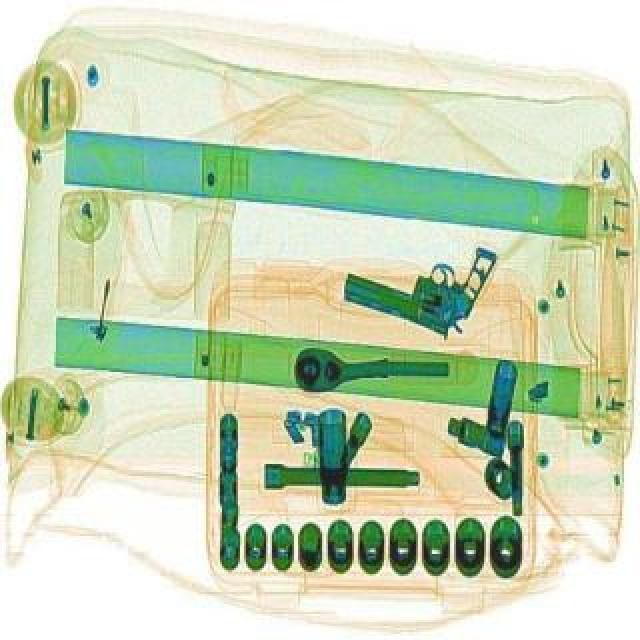gun: (334, 210, 498, 344)
